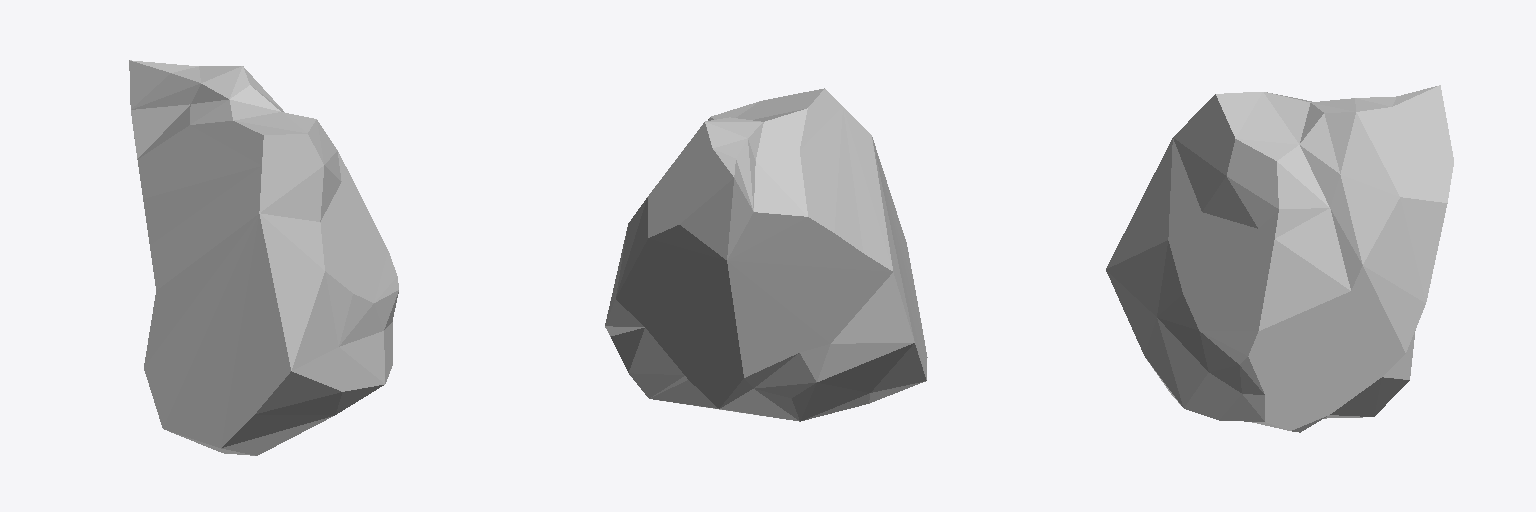
The model's file is Rock3Complex.obj.
3 renders of one model, left to right at view 1: azimuth 30°, elevation 25°; view 2: azimuth 150°, elevation 25°; view 3: azimuth 270°, elevation 25°, orthographic.
Visible parts, largest first — view 1: Rock_3_Icosphere.015; view 2: Rock_3_Icosphere.015; view 3: Rock_3_Icosphere.015.
Part boxes in pixels (x1,y1,x2,y2): Rock_3_Icosphere.015: (129,60,398,455); Rock_3_Icosphere.015: (605,88,927,421); Rock_3_Icosphere.015: (1106,85,1453,432).
Bounding box in the file's own units: 6.69 × 7.7 × 7.79.